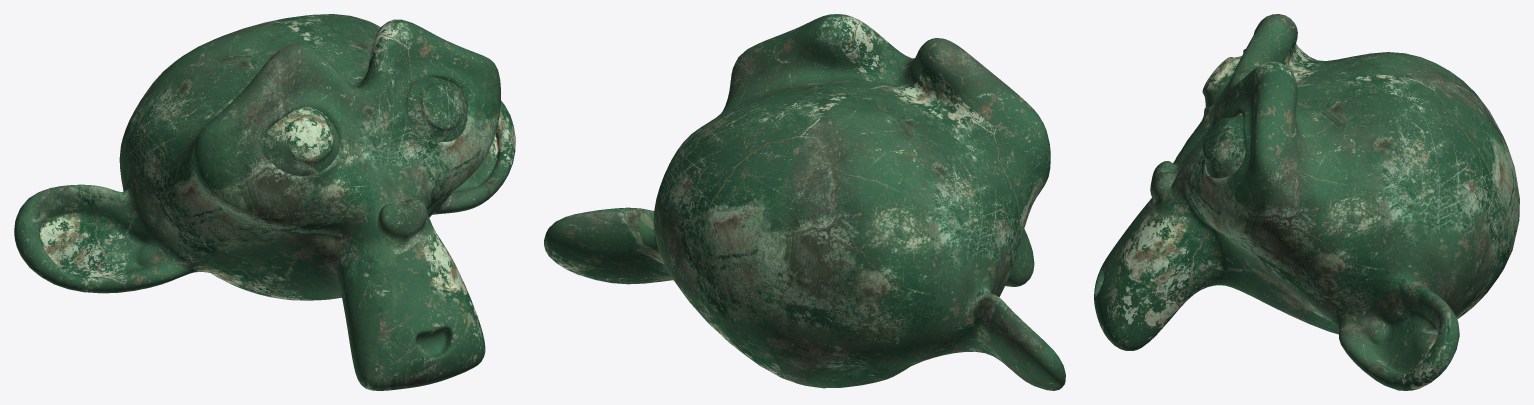
Rendered from monkey.2d4f2c15.glb.
The picture shows the model from 3 angles, left to right: view 1: azimuth 30°, elevation 25°; view 2: azimuth 150°, elevation 25°; view 3: azimuth 270°, elevation 25°; orthographic projection. The views are drawn at different scales.
Parts seen in each view (by area): view 1: Suzanne; view 2: Suzanne; view 3: Suzanne.
Boxes of the visible parts, left/top/right/bottom form: Suzanne: left=14, top=14, right=515, bottom=390; Suzanne: left=544, top=14, right=1065, bottom=390; Suzanne: left=1094, top=14, right=1519, bottom=390.
Size of the model in its own units: 1.75 by 0.9935 by 1.32.
1 material, 1 textured.
